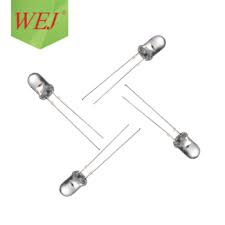LED: (132, 34, 173, 65), (169, 127, 204, 163), (55, 169, 95, 199), (25, 69, 56, 104)
